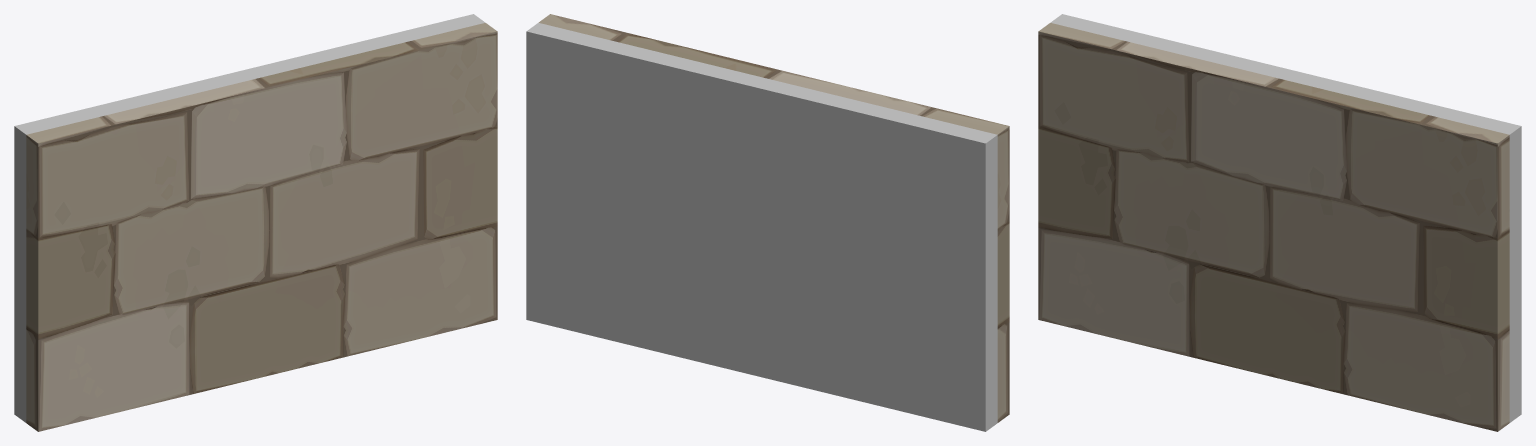
The model's file is SM_Bld_Wall_Small_01.fbx.
3 renders of one model, left to right at view 1: azimuth 30°, elevation 25°; view 2: azimuth 150°, elevation 25°; view 3: azimuth 330°, elevation 25°, orthographic.
Visible parts, largest first — view 1: SM_Bld_Wall_Small_01; view 2: SM_Bld_Wall_Small_01; view 3: SM_Bld_Wall_Small_01.
Boxes of the visible parts, x1,y1,x2,y2 form: SM_Bld_Wall_Small_01: (14,14,497,431); SM_Bld_Wall_Small_01: (526,14,1009,431); SM_Bld_Wall_Small_01: (1038,14,1521,431).
Bounding box in the file's own units: 250 × 150 × 22.5.
